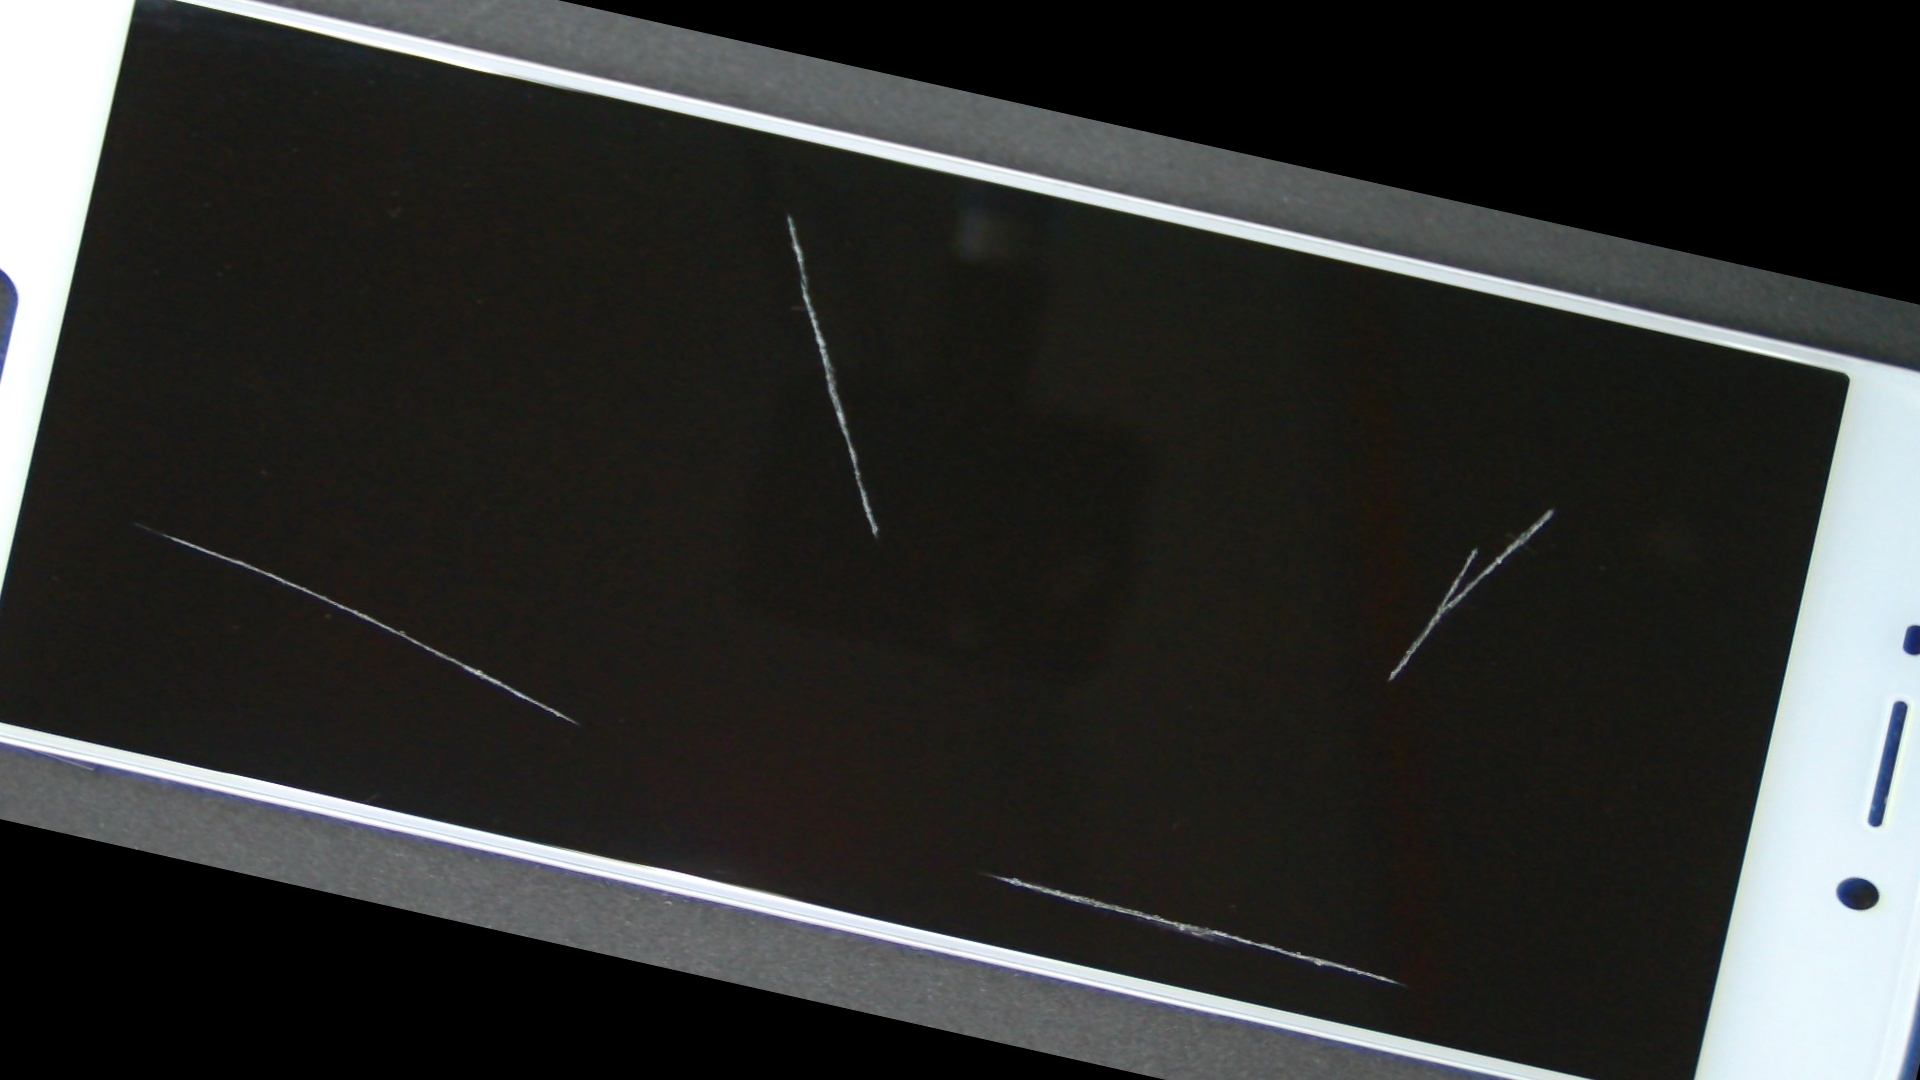oil: (359, 369, 1710, 1080), (686, 185, 1920, 749), (328, 34, 1246, 394), (0, 191, 364, 852)
